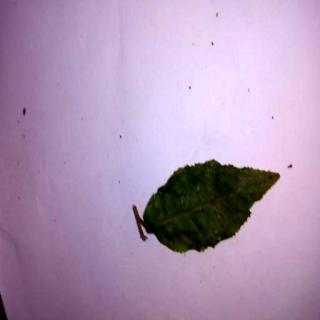Bird Eye Spot: (134, 161, 281, 255)
